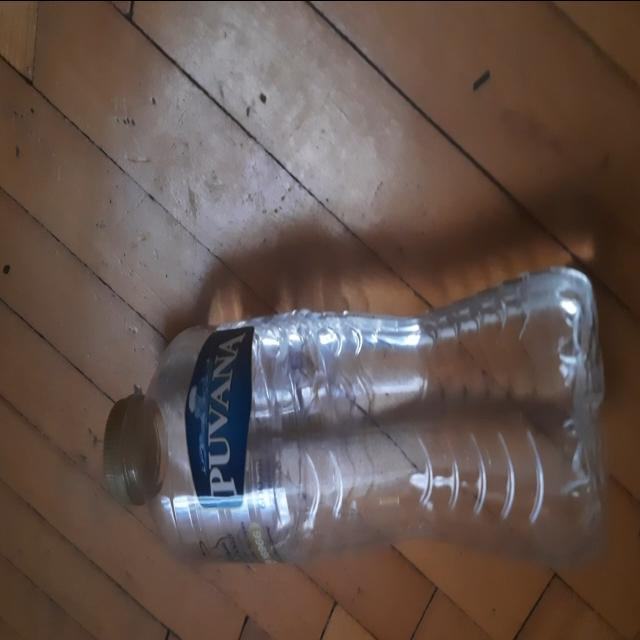Plastic: (102, 264, 616, 571)
